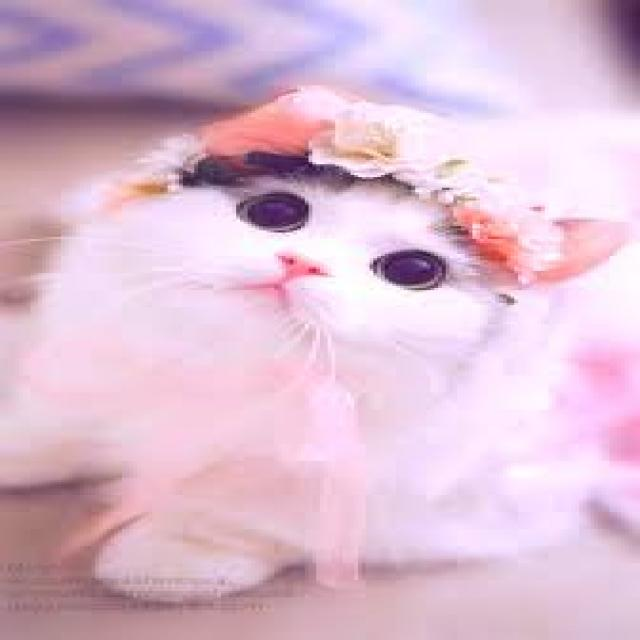Cat: (0, 80, 640, 604)
